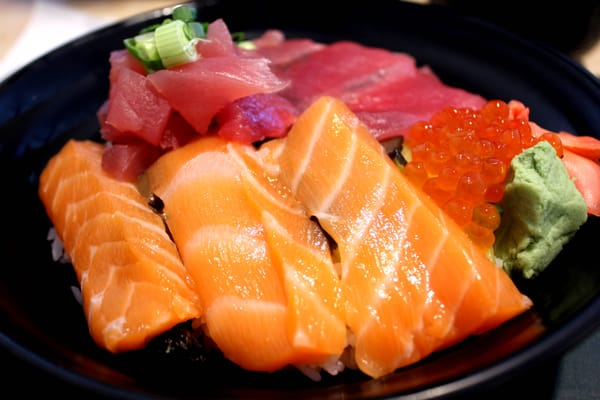curry: (491, 141, 588, 279)
sushi: (0, 1, 555, 388)
